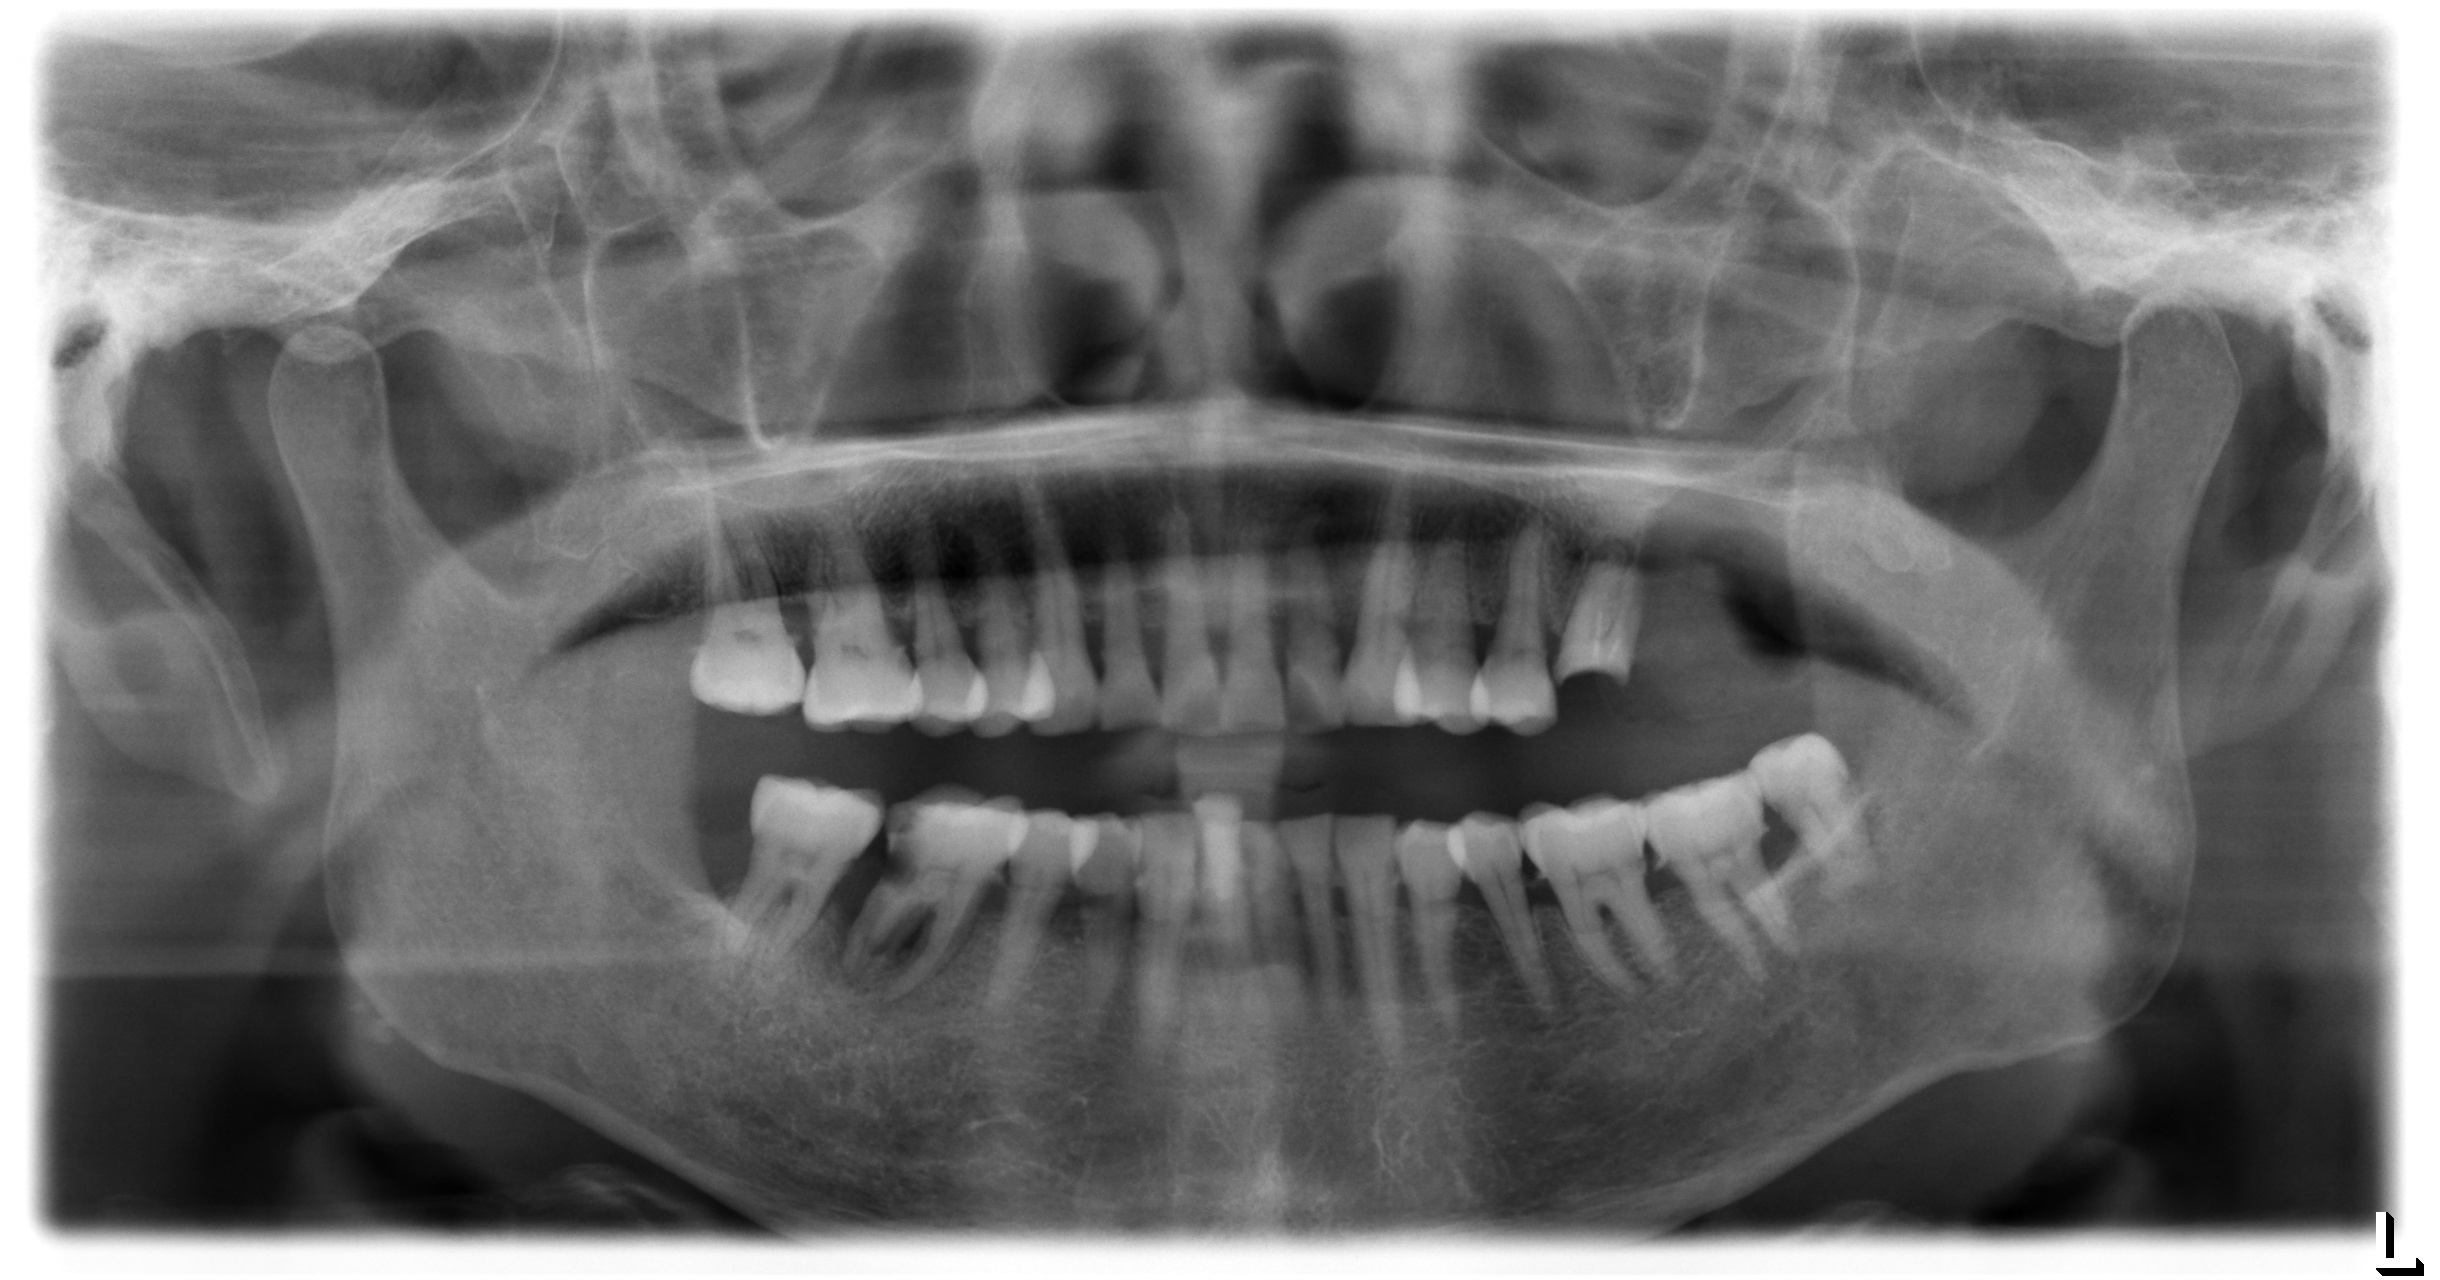Decay: (1549, 539, 1636, 688), (871, 796, 921, 889)
